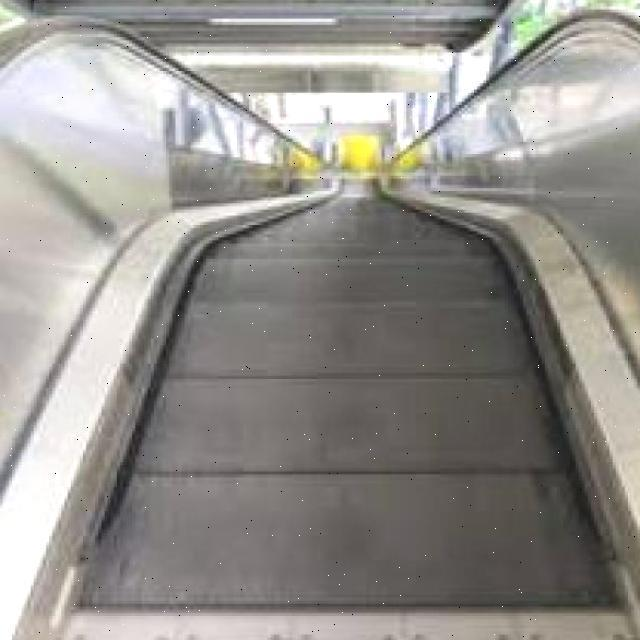stair: (64, 401, 606, 638)
